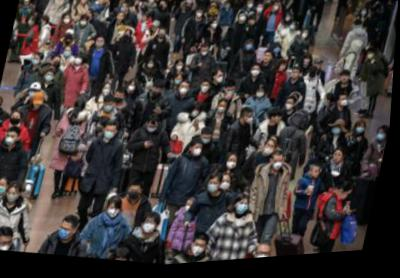NONE: (335, 156, 349, 170), (314, 172, 326, 185), (342, 78, 353, 90), (293, 74, 303, 84), (265, 57, 274, 67), (277, 118, 285, 127), (152, 27, 161, 35), (317, 66, 326, 74), (282, 68, 290, 77), (117, 16, 125, 24), (251, 22, 258, 30), (142, 17, 149, 24), (82, 1, 88, 5)
OK: (194, 244, 212, 262), (60, 224, 77, 242), (145, 221, 162, 238), (130, 188, 146, 204), (239, 204, 255, 220), (1, 237, 18, 251), (274, 161, 289, 176), (110, 206, 125, 221), (210, 182, 224, 198), (8, 190, 24, 204), (7, 132, 21, 147), (11, 113, 25, 127), (194, 147, 208, 161), (106, 128, 119, 143), (229, 160, 242, 174), (223, 181, 236, 195), (259, 253, 278, 262), (1, 181, 11, 198), (148, 125, 161, 137), (97, 123, 109, 136), (379, 136, 391, 148), (181, 86, 192, 99), (219, 106, 230, 118), (30, 88, 41, 100), (343, 196, 355, 207), (46, 73, 57, 84), (116, 94, 127, 105), (105, 104, 116, 115), (272, 6, 283, 17), (253, 71, 264, 82), (53, 59, 64, 70), (342, 101, 352, 113), (248, 117, 258, 129), (335, 130, 345, 142), (203, 138, 215, 148), (227, 91, 238, 101), (239, 16, 249, 27), (203, 85, 212, 97), (129, 85, 139, 95), (154, 90, 164, 100), (104, 87, 114, 97), (359, 131, 369, 141), (301, 35, 311, 45), (96, 40, 106, 50), (177, 65, 187, 75), (176, 79, 186, 89), (258, 94, 269, 103), (323, 102, 332, 113), (64, 49, 73, 60), (33, 56, 42, 67), (288, 105, 297, 115), (194, 111, 203, 121), (368, 56, 377, 66), (66, 33, 76, 42), (218, 77, 227, 87), (188, 205, 196, 216), (201, 52, 212, 60), (247, 46, 256, 55), (148, 62, 157, 71), (212, 24, 220, 34), (248, 4, 256, 13), (286, 18, 294, 27), (197, 14, 206, 22), (120, 6, 128, 15), (290, 26, 298, 35), (311, 75, 320, 83), (76, 57, 84, 66), (81, 20, 89, 28), (125, 34, 133, 42), (276, 50, 284, 58), (305, 62, 313, 70), (159, 4, 166, 13), (85, 12, 92, 21), (65, 17, 72, 26), (28, 17, 35, 26), (362, 14, 370, 21), (187, 1, 194, 9), (257, 10, 265, 17), (135, 3, 142, 11), (225, 6, 231, 13), (44, 46, 50, 53), (195, 41, 201, 47), (150, 1, 157, 6), (140, 3, 145, 10), (24, 1, 32, 5), (89, 1, 97, 4), (272, 1, 280, 4), (212, 9, 217, 13)
WRONG: (266, 146, 280, 161), (159, 32, 168, 42)
